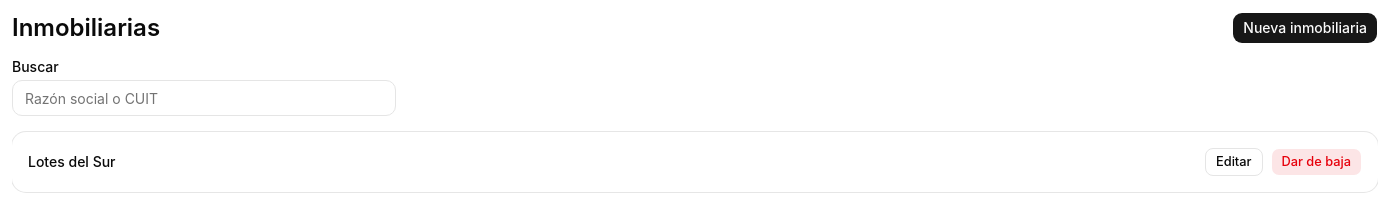
AgenciesPage › gives an agency de baja after confirming
Expected: the text "Lotes del Sur" is shown, x1=28 y1=152 x2=116 y2=172
Click the button "Dar de baja" at x=1316, y=162, box x1=1270 y1=148 x2=1362 y2=176
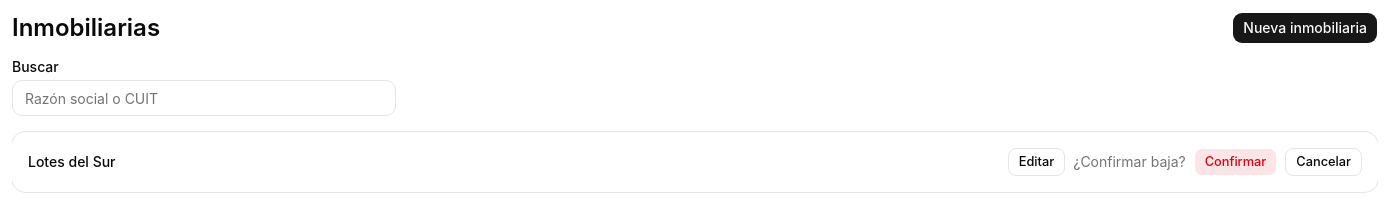
Click the button "Confirmar" at x=1236, y=162, box x1=1194 y1=148 x2=1277 y2=176
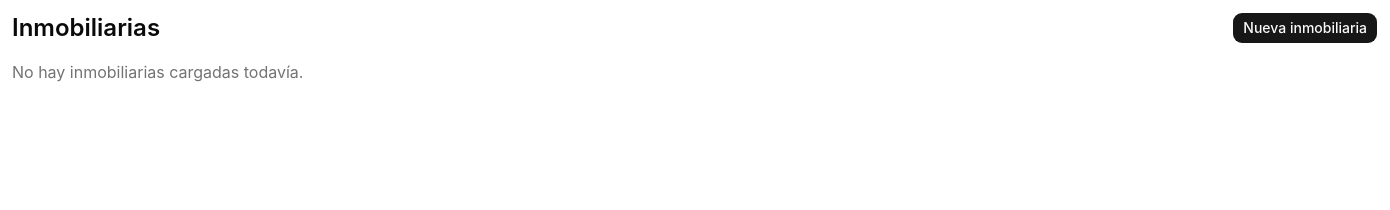
Expected: the text "No hay inmobiliarias cargadas todavía." is shown, x1=12 y1=62 x2=303 y2=82
